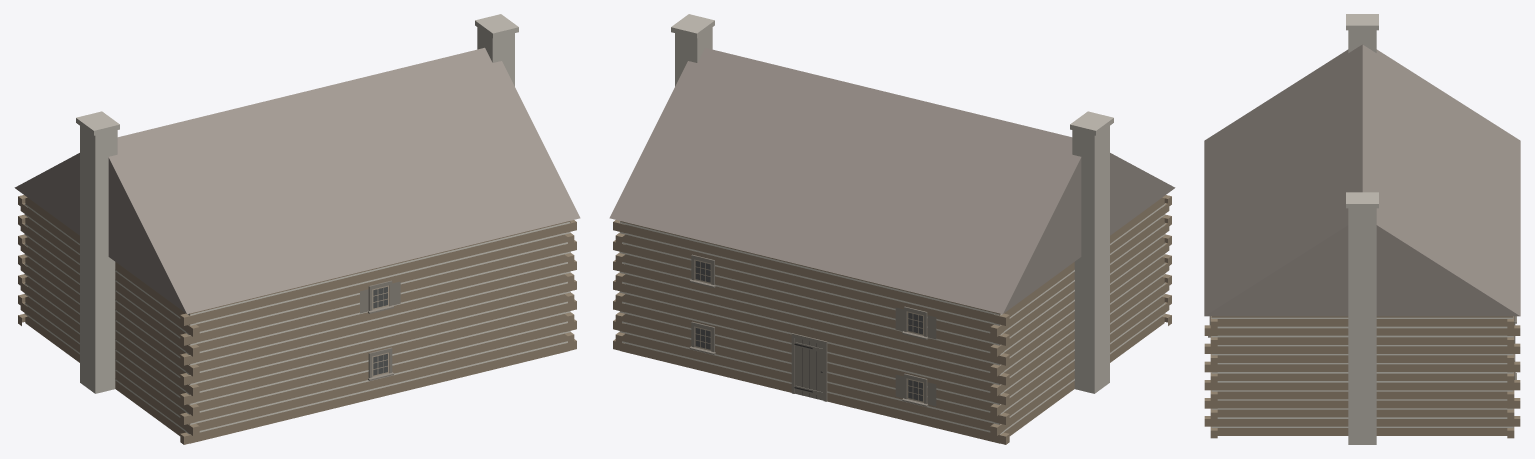
Rendered from first_fort_outer_agents_house__first_fort_1803.glb.
3 renders of one model, left to right at view 1: azimuth 30°, elevation 25°; view 2: azimuth 150°, elevation 25°; view 3: azimuth 270°, elevation 25°, orthographic. The views are drawn at different scales.
Parts seen in each view (by area): view 1: first_fort_outer_agents_house__first_fort_1803; view 2: first_fort_outer_agents_house__first_fort_1803; view 3: first_fort_outer_agents_house__first_fort_1803.
Part boxes in pixels (<box>): first_fort_outer_agents_house__first_fort_1803: <box>14,14,580,444</box>; first_fort_outer_agents_house__first_fort_1803: <box>609,14,1175,444</box>; first_fort_outer_agents_house__first_fort_1803: <box>1204,14,1520,444</box>.
Size of the model in its own units: 15.26 by 9.08 by 10.74.
